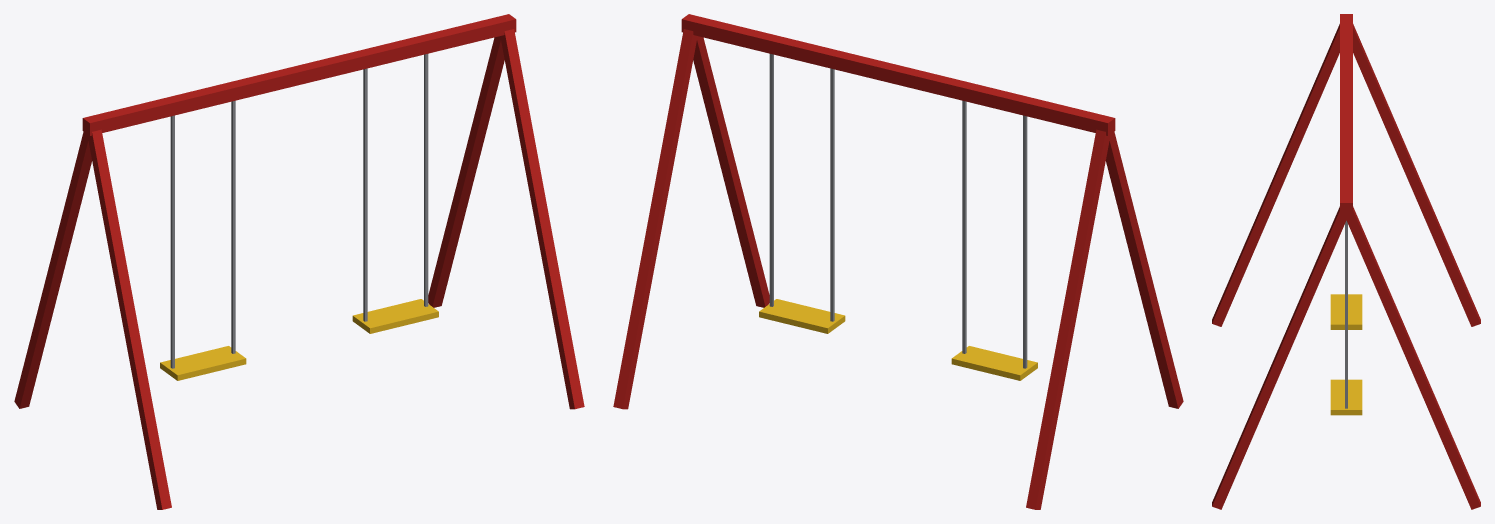
Rendered from bne_play_swing.dae.
The picture shows the model from 3 angles, left to right: view 1: azimuth 30°, elevation 25°; view 2: azimuth 150°, elevation 25°; view 3: azimuth 270°, elevation 25°; orthographic projection. The views are drawn at different scales.
Visible parts, largest first — view 1: bne_play_swing_0, bne_play_swing_1, bne_play_swing_2; view 2: bne_play_swing_0, bne_play_swing_1, bne_play_swing_2; view 3: bne_play_swing_0, bne_play_swing_2, bne_play_swing_1.
Boxes of the visible parts, left/top/right/bottom form: bne_play_swing_0: left=14, top=14, right=584, bottom=509; bne_play_swing_1: left=170, top=54, right=428, bottom=368; bne_play_swing_2: left=160, top=299, right=438, bottom=380; bne_play_swing_0: left=613, top=14, right=1183, bottom=509; bne_play_swing_1: left=769, top=54, right=1027, bottom=368; bne_play_swing_2: left=759, top=299, right=1037, bottom=380; bne_play_swing_0: left=1212, top=14, right=1480, bottom=509; bne_play_swing_2: left=1330, top=294, right=1362, bottom=415; bne_play_swing_1: left=1345, top=220, right=1347, bottom=408.
Bounding box in the file's own units: 3.1 × 1.87 × 2.36.
